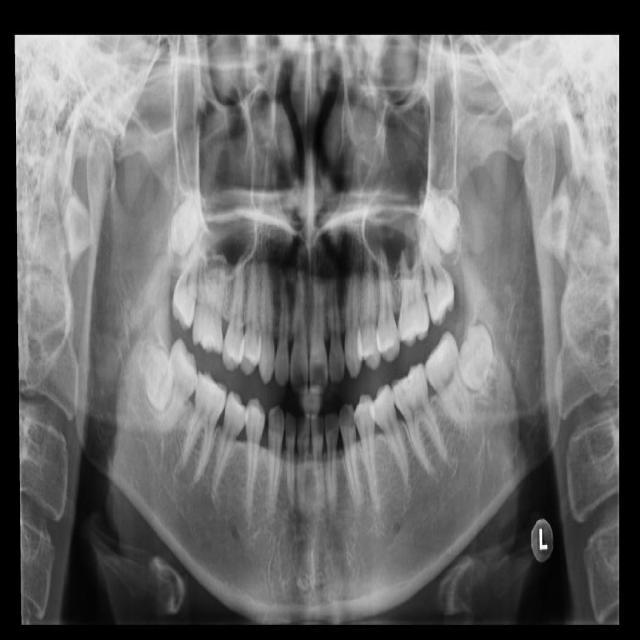3M ESPE Implant: (168, 198, 200, 256)
52: (191, 304, 226, 354)
73: (596, 580, 603, 590)
BioHorizons Implant: (413, 209, 460, 328)
BioLife Implant: (412, 174, 473, 257)
Biomet 3i Implant: (445, 321, 513, 409)
Blue Sky Bio Implant: (416, 329, 476, 431)
Caries: (168, 242, 204, 332)
Implant: (148, 336, 209, 438)
Keystone Dental Implant: (134, 339, 181, 414)
